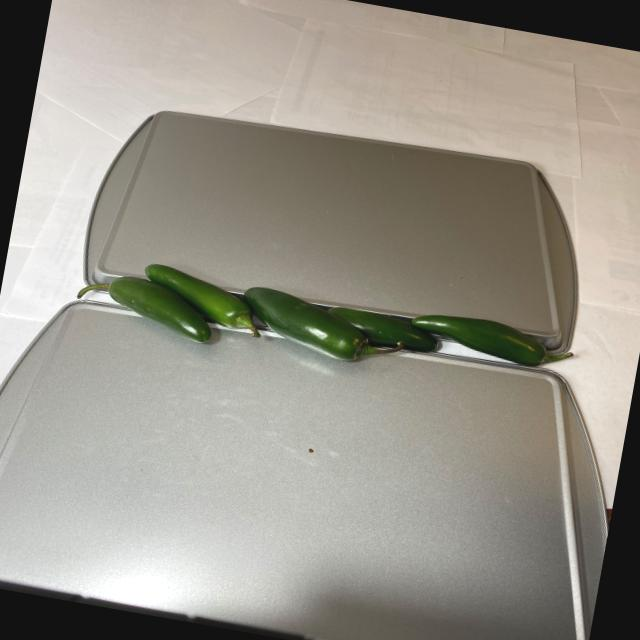chilli: (73, 247, 585, 404)
